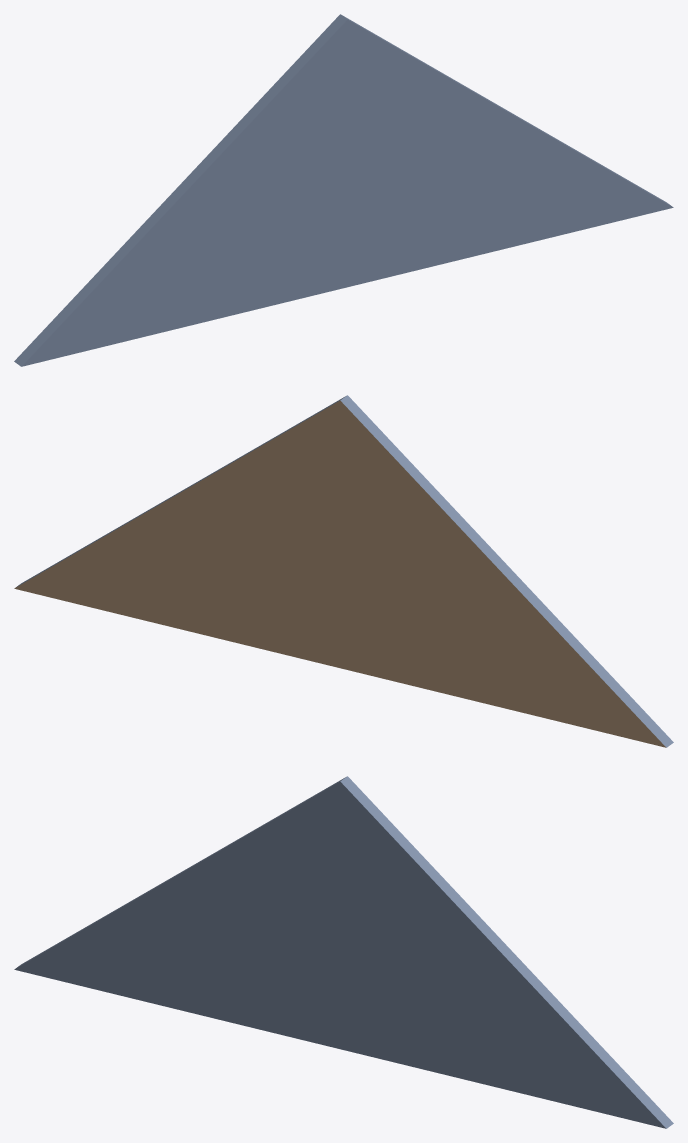
Rendered from Wall2_C3_18.fbx.
The picture shows the model from 3 angles, top to bottom: view 1: azimuth 30°, elevation 25°; view 2: azimuth 150°, elevation 25°; view 3: azimuth 330°, elevation 25°; orthographic projection.
Visible parts, largest first — view 1: Wall2_C3_18; view 2: Wall2_C3_18; view 3: Wall2_C3_18.
Boxes of the visible parts, x1,y1,x2,y2 form: Wall2_C3_18: [14, 14, 673, 366]; Wall2_C3_18: [14, 395, 673, 747]; Wall2_C3_18: [14, 776, 673, 1128].
Bounding box in the file's own units: 765 × 300 × 15.
